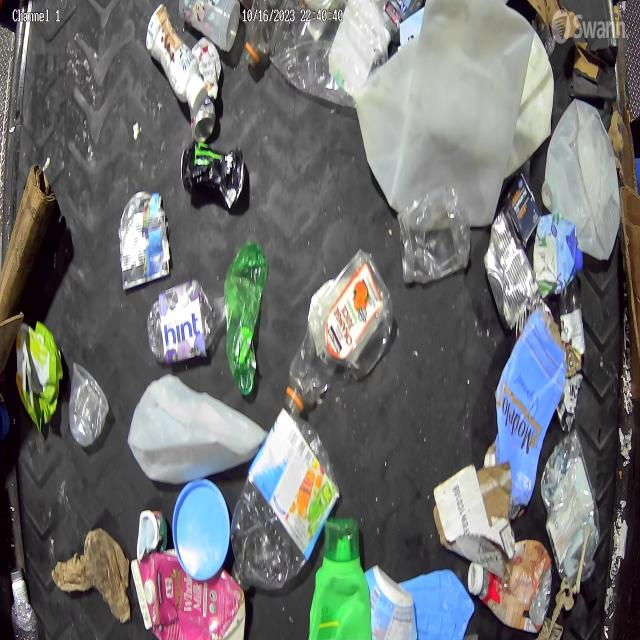can: (484, 206, 541, 332), (118, 190, 172, 292), (180, 138, 246, 212), (187, 37, 222, 144), (556, 345, 582, 431)
milk_jug: (125, 375, 266, 484), (542, 98, 620, 261)
non_white_jug: (493, 313, 565, 521), (131, 549, 246, 640), (308, 520, 368, 640)
plastic_bottle: (234, 414, 338, 596), (283, 251, 392, 417), (146, 278, 223, 364), (244, 0, 292, 69), (11, 600, 39, 640)
